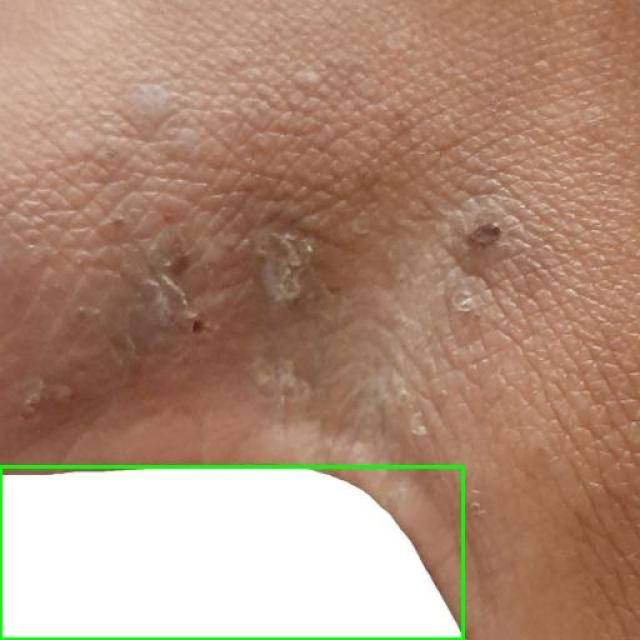Scabies: (0, 466, 462, 639)
